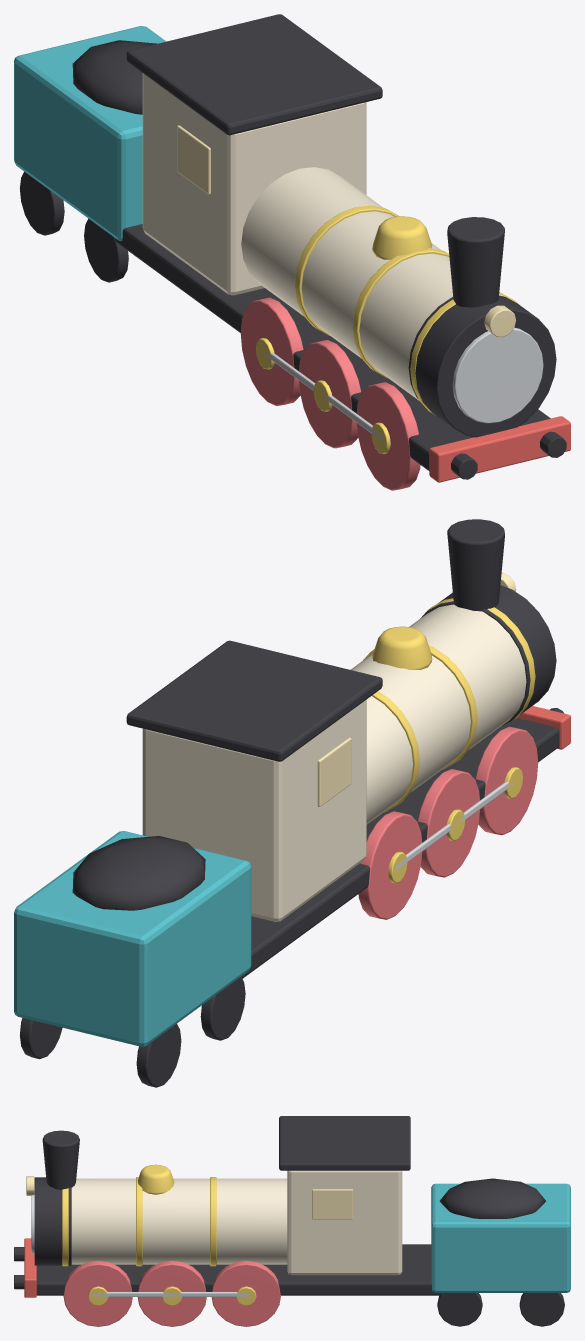
Rendered from train_loco.fbx.
The picture shows the model from 3 angles, top to bottom: view 1: azimuth 30°, elevation 25°; view 2: azimuth 150°, elevation 25°; view 3: azimuth 270°, elevation 25°; orthographic projection. The views are drawn at different scales.
Visible parts, largest first — view 1: Visual; view 2: Visual; view 3: Visual.
Boxes of the visible parts, x1,y1,x2,y2 form: Visual: [14, 14, 570, 490]; Visual: [14, 519, 570, 1087]; Visual: [14, 1116, 570, 1326].
Size of the model in its own units: 280 by 455 by 1355.
